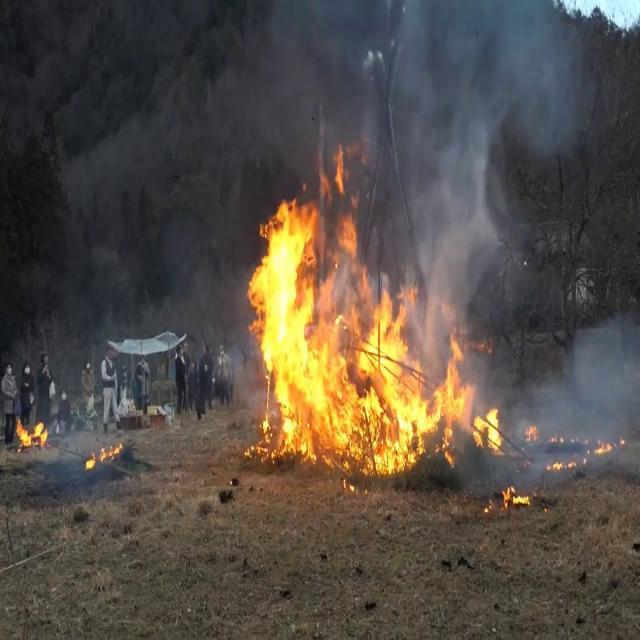Fire: (223, 125, 413, 480), (416, 334, 509, 448), (20, 422, 53, 454), (500, 479, 536, 507)
Smoke: (366, 0, 597, 351), (516, 308, 640, 462)
